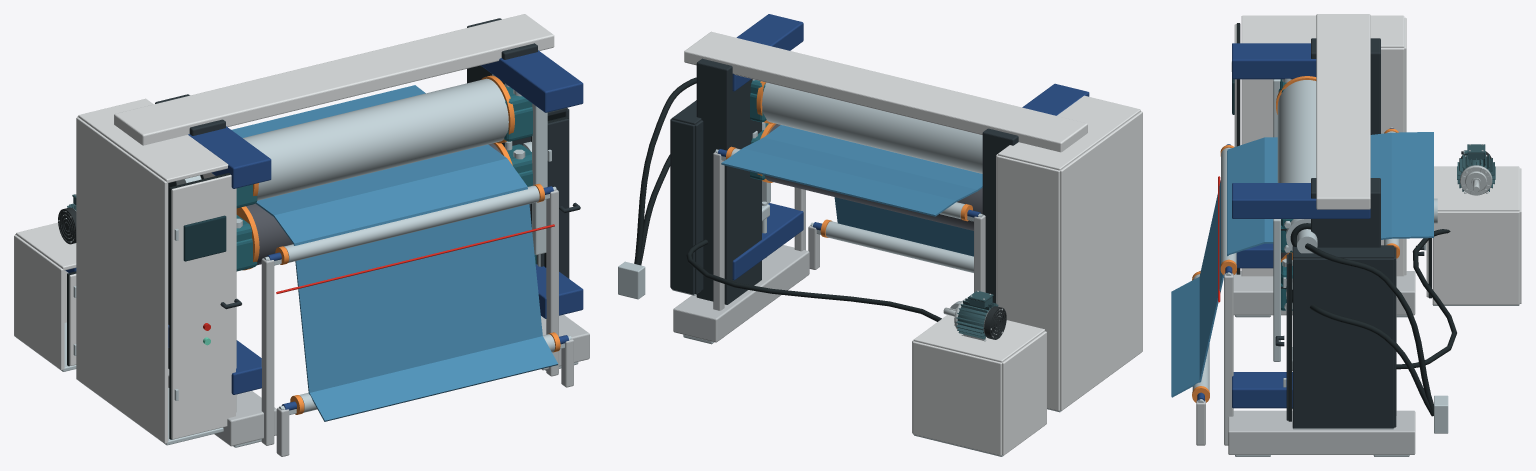
Rendered from calender.glb.
3 renders of one model, left to right at view 1: azimuth 30°, elevation 25°; view 2: azimuth 150°, elevation 25°; view 3: azimuth 270°, elevation 25°, orthographic. The views are drawn at different scales.
Parts seen in each view (by area): view 1: fabric_web, f3_case_wall, f3_frame.018, 镀铬加热钢辊_drum, f3_door, f3_case_wall.004, f3_case_top, 全幅导布辊_drum, f3_frame.009, f3_frame.003, f3_frame.012, f3_door.001 (+18 smaller); view 2: f3_case_wall, fabric_web, f3_frame.018, f3_case_rear, f3_frame.007, 镀铬加热钢辊_drum, f3_case_rear.002, f3_frame.006, f3_case_wall.004, f3_case_rear.001, f3_case_top, f3_case_top.002 (+16 smaller); view 3: f3_case_wall.003, fabric_web, f3_frame.018, f3_case_wall.005, f3_frame.006, f3_case_wall.001, 镀铬加热钢辊_drum, f3_frame.009, f3_case_top, f3_frame.003, f3_case_top.002, f3_frame.007 (+22 smaller).
Boxes of the visible parts, <box> form: fabric_web: <box>232,85,557,421</box>; f3_case_wall: <box>76,117,168,443</box>; f3_frame.018: <box>114,14,554,145</box>; 镀铬加热钢辊_drum: <box>243,78,508,200</box>; f3_door: <box>171,174,235,439</box>; f3_case_wall.004: <box>14,235,64,370</box>; f3_case_top: <box>78,98,228,182</box>; 全幅导布辊_drum: <box>284,185,539,262</box>; f3_frame.009: <box>481,50,583,112</box>; f3_frame.003: <box>188,126,271,188</box>; f3_frame.012: <box>261,258,274,445</box>; f3_door.001: <box>547,118,568,278</box>; f3_case_wall: <box>1060,111,1142,410</box>; fabric_web: <box>721,125,982,256</box>; f3_frame.018: <box>684,31,1087,152</box>; f3_case_rear: <box>997,155,1059,410</box>; f3_frame.007: <box>696,58,761,304</box>; 镀铬加热钢辊_drum: <box>762,82,982,173</box>; f3_case_rear.002: <box>912,341,1001,455</box>; f3_frame.006: <box>673,245,809,342</box>; f3_case_wall.004: <box>1002,331,1046,455</box>; f3_case_rear.001: <box>671,119,694,294</box>; f3_case_top: <box>998,95,1140,170</box>; f3_case_top.002: <box>913,315,1044,362</box>; f3_case_wall.003: <box>1292,258,1394,428</box>; fabric_web: <box>1171,132,1433,397</box>; f3_frame.018: <box>1316,14,1370,209</box>; f3_case_wall.005: <box>1432,211,1519,304</box>; f3_frame.006: <box>1228,410,1415,454</box>; f3_case_wall.001: <box>1241,48,1404,276</box>; 镀铬加热钢辊_drum: <box>1277,80,1316,182</box>; f3_frame.009: <box>1232,183,1370,218</box>; f3_case_top: <box>1241,15,1404,47</box>; f3_frame.003: <box>1232,43,1316,79</box>; f3_case_top.002: <box>1434,166,1519,211</box>; f3_frame.007: <box>1311,178,1380,247</box>.
Size of the model in its own units: 4.05 by 2.46 by 2.91.
